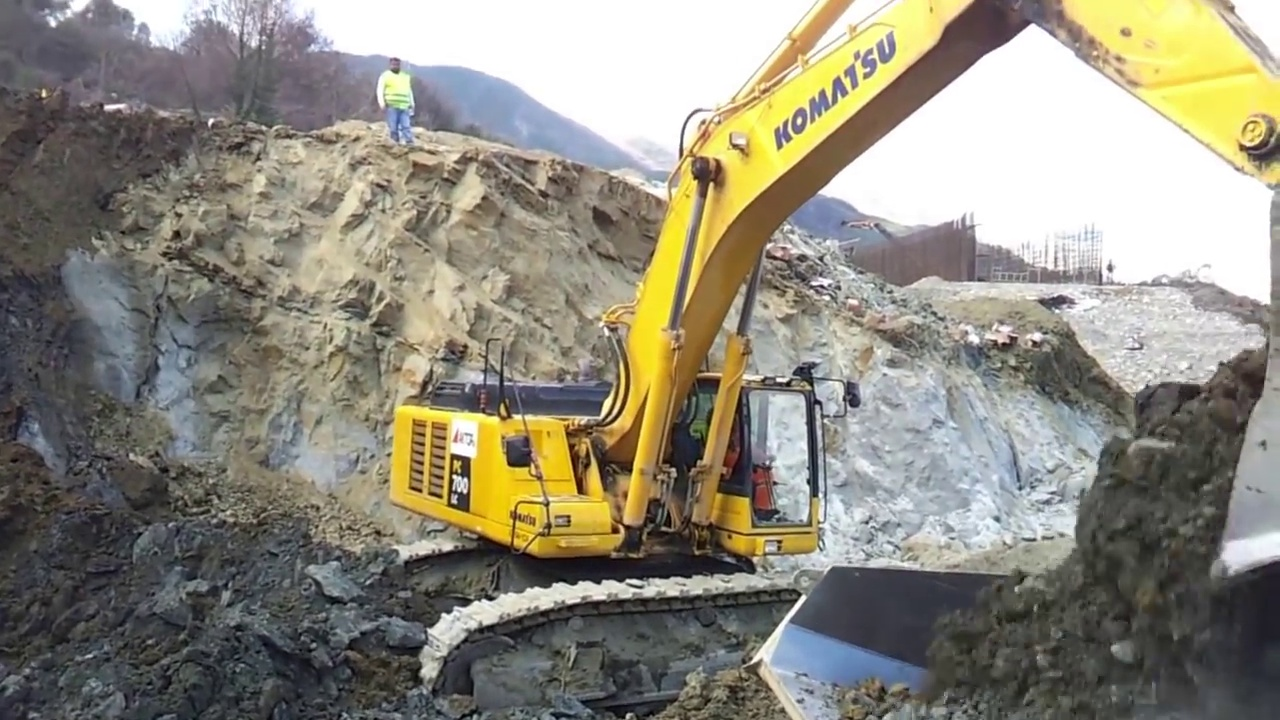excavator: (386, 1, 1277, 720)
person: (377, 53, 414, 145)
